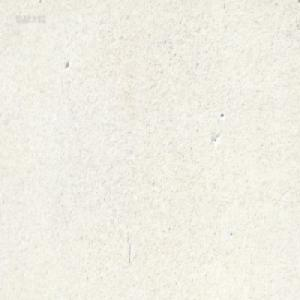Wrench: (131, 0, 138, 4)
